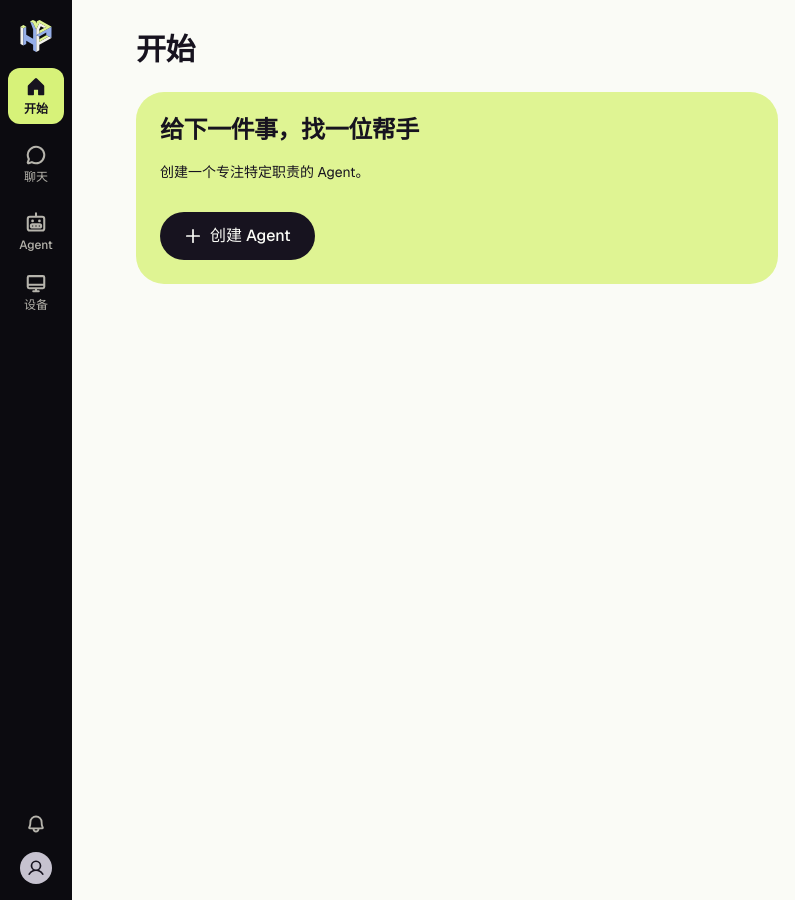
start-page shadcn example › uses Card/Button while preserving the local agent creation journey
The width and height of the screenshot is (795, 900).
Step 1. Click the button "创建 Agent" → (237, 236), box 160,212 -> 315,260
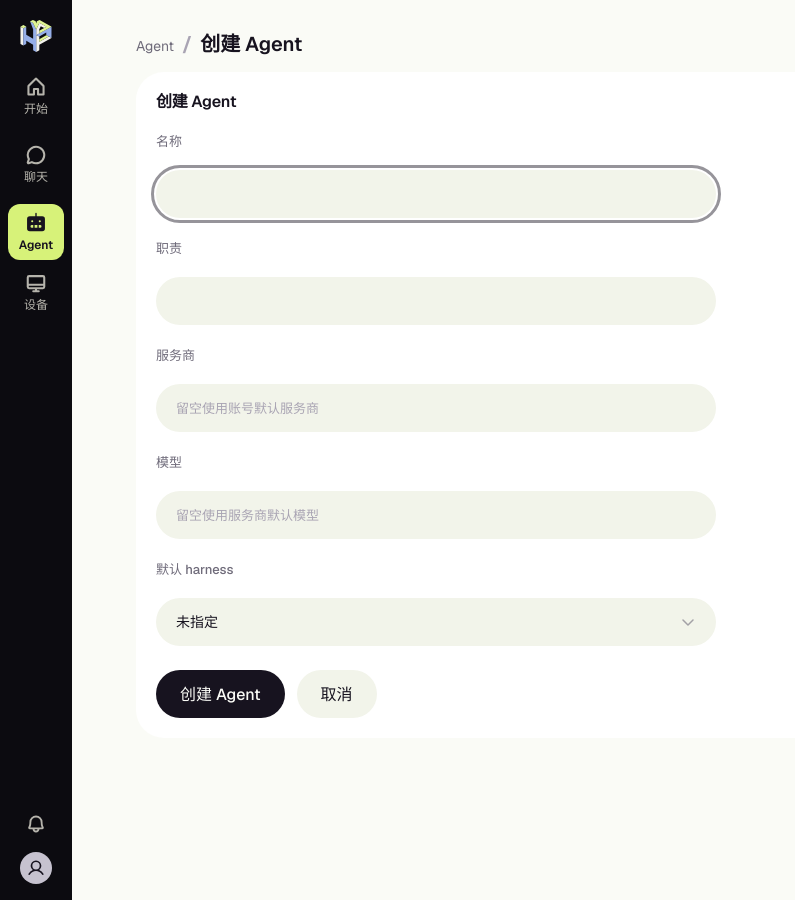
Result: the heading "创建 Agent" is shown at 156,92 -> 236,111
Result: the field labelled "名称" is shown at 156,170 -> 716,218
